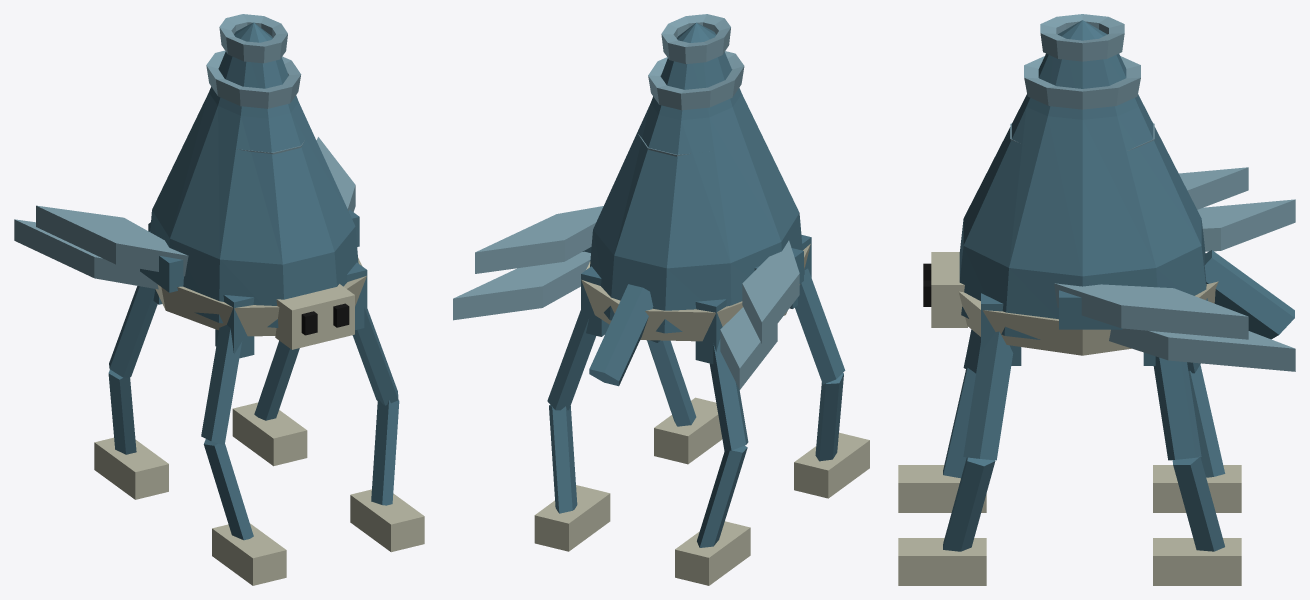
The model's file is tidaloom.glb.
3 renders of one model, left to right at view 1: azimuth 30°, elevation 25°; view 2: azimuth 150°, elevation 25°; view 3: azimuth 270°, elevation 25°, orthographic. The views are drawn at different scales.
Parts seen in each view (by area): view 1: Tidaloom; view 2: Tidaloom; view 3: Tidaloom.
Part boxes in pixels (x1,y1,x2,y2): Tidaloom: (14, 14, 424, 585); Tidaloom: (453, 14, 869, 585); Tidaloom: (898, 14, 1295, 585).
Bounding box in the file's own units: 0.64 × 1.04 × 0.72.
